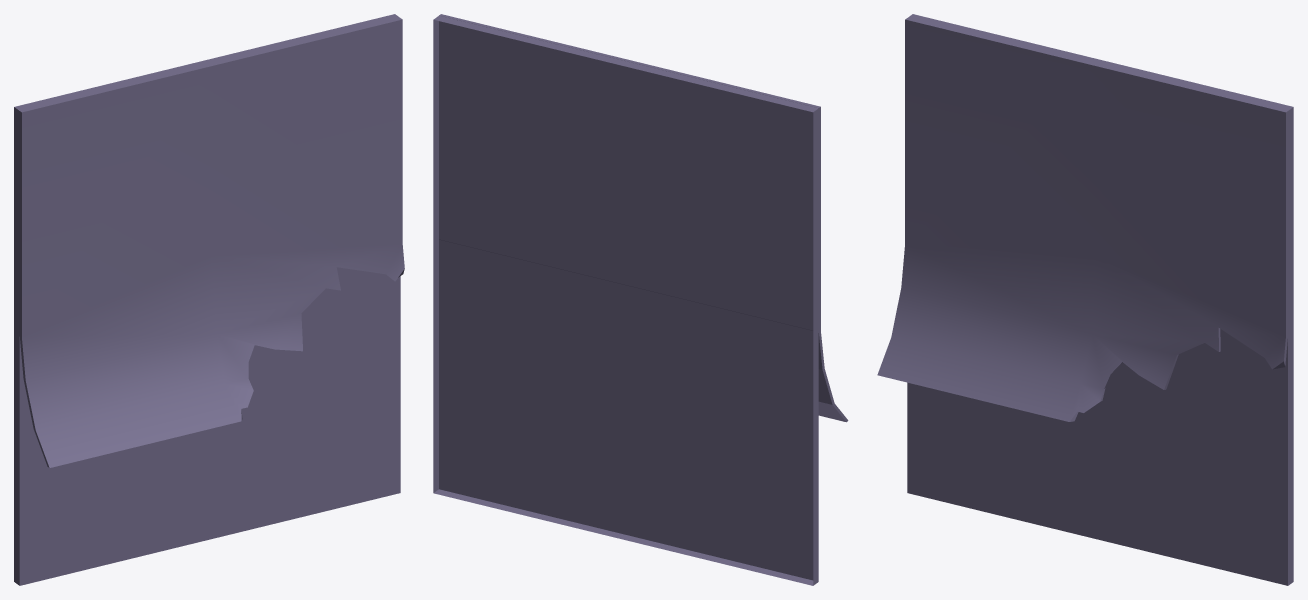
File: SM_Calendar.fbx
The picture shows the model from 3 angles, left to right: view 1: azimuth 30°, elevation 25°; view 2: azimuth 150°, elevation 25°; view 3: azimuth 330°, elevation 25°; orthographic projection.
Parts seen in each view (by area): view 1: SM_Calendar; view 2: SM_Calendar; view 3: SM_Calendar.
Part boxes in pixels (box(x1,y1,x2,y2)): SM_Calendar: box(14, 14, 404, 585); SM_Calendar: box(433, 14, 848, 585); SM_Calendar: box(877, 14, 1293, 585).
Size of the model in its own units: 68.03 by 81.08 by 10.99.
